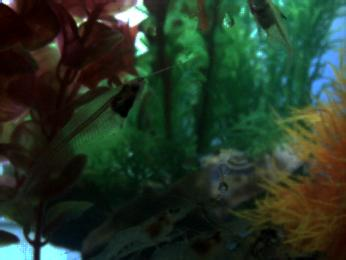X-ray fish: (245, 1, 304, 68), (232, 221, 289, 260)
glassfish: (3, 75, 147, 214)
siberian prawn: (92, 194, 203, 260), (152, 219, 248, 260)
